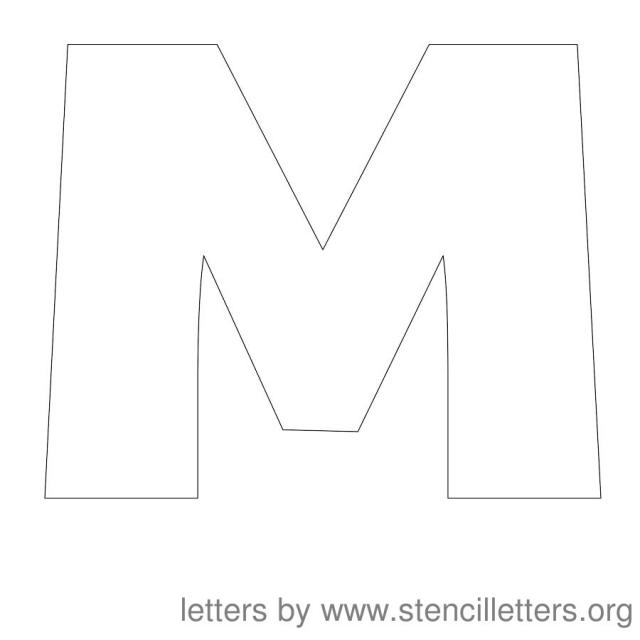M: (27, 7, 628, 580)
